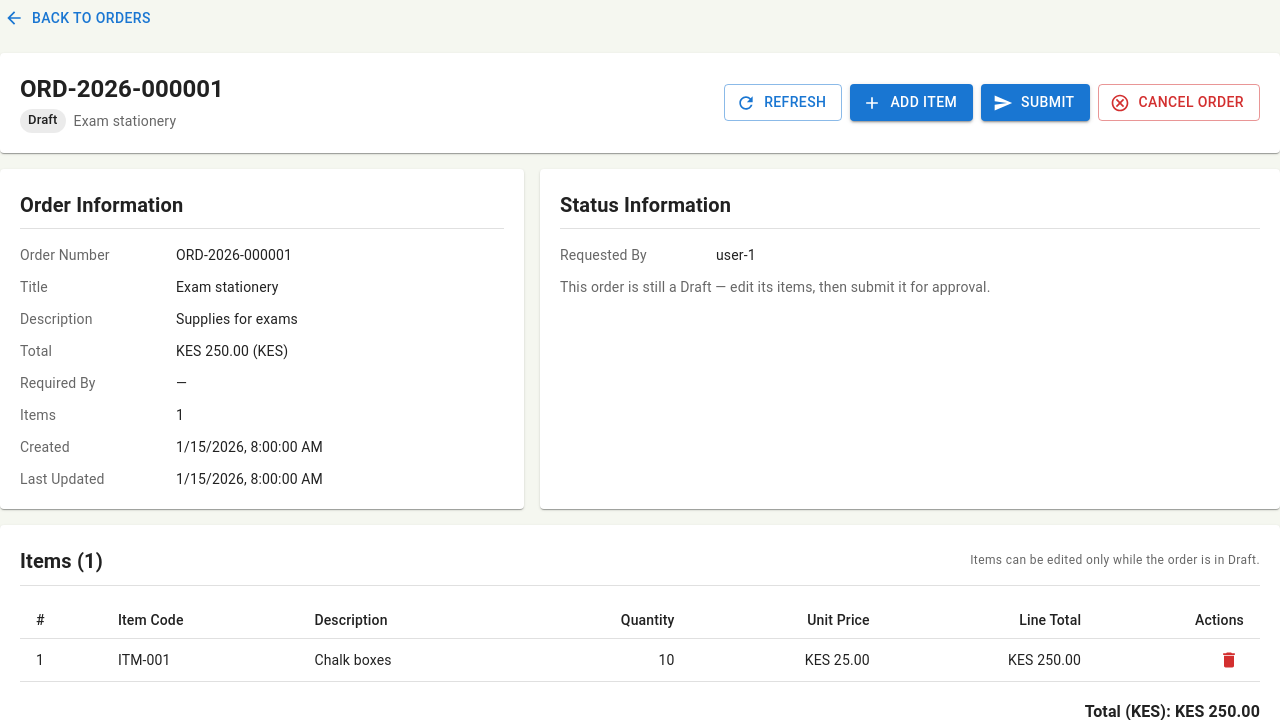
Test: OmsOrderDetail — workflow › shows a server authorization error when cancellation is no longer permitted
The width and height of the screenshot is (1280, 720).
Click the button "Cancel Order": (1179, 103) [1098,84,1260,121]
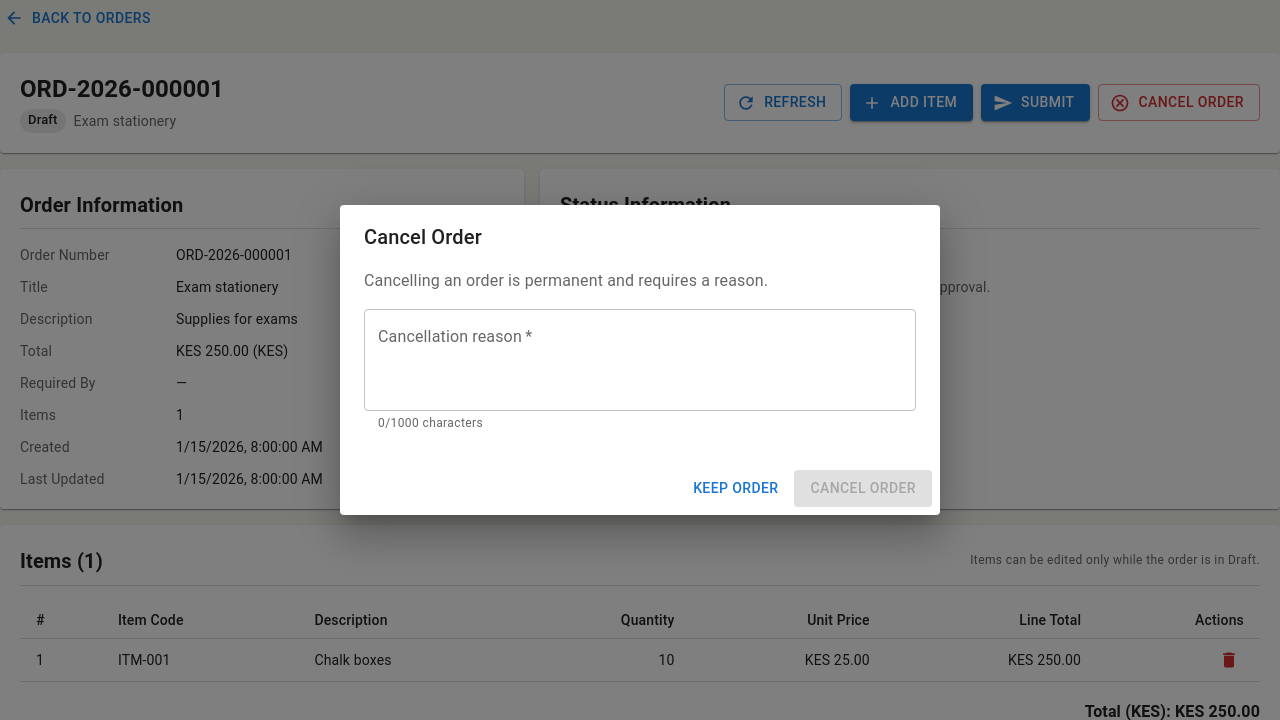
In the text box labelled "Cancellation reason *": (640, 360) [378,326,902,395], type "Trying again"
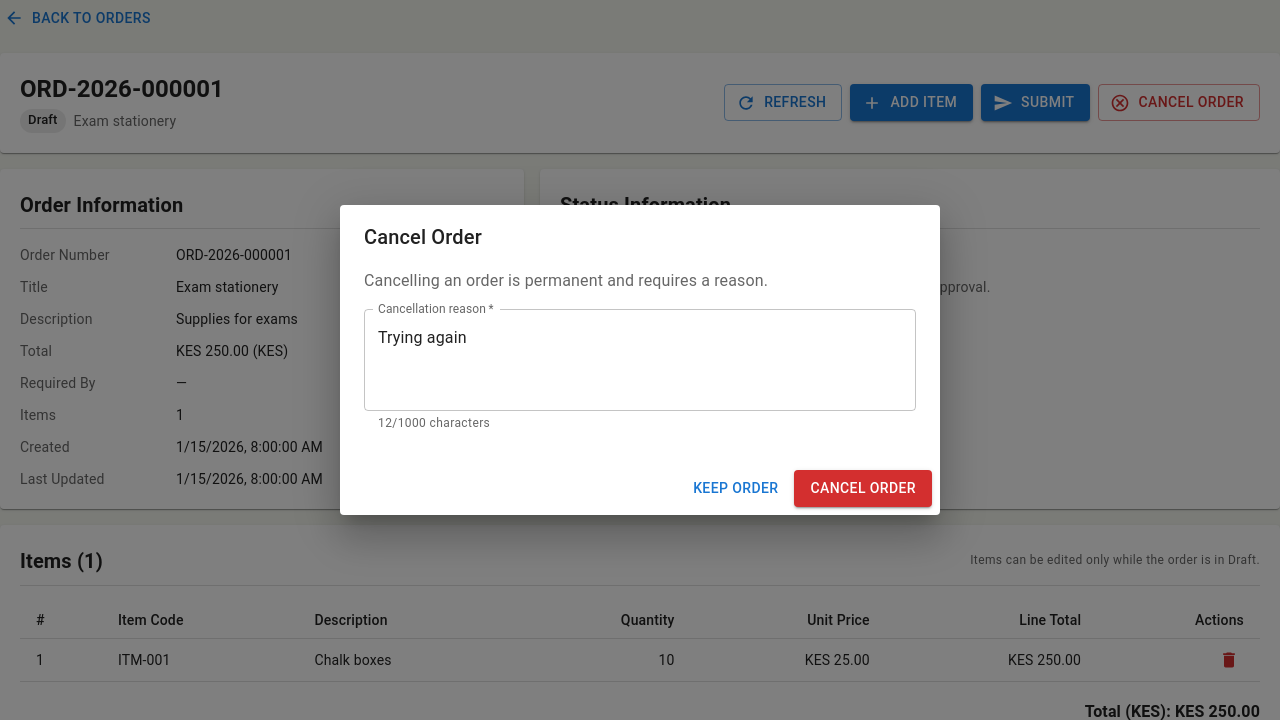
Click the button "Cancel Order": (863, 488) [794,470,932,507]
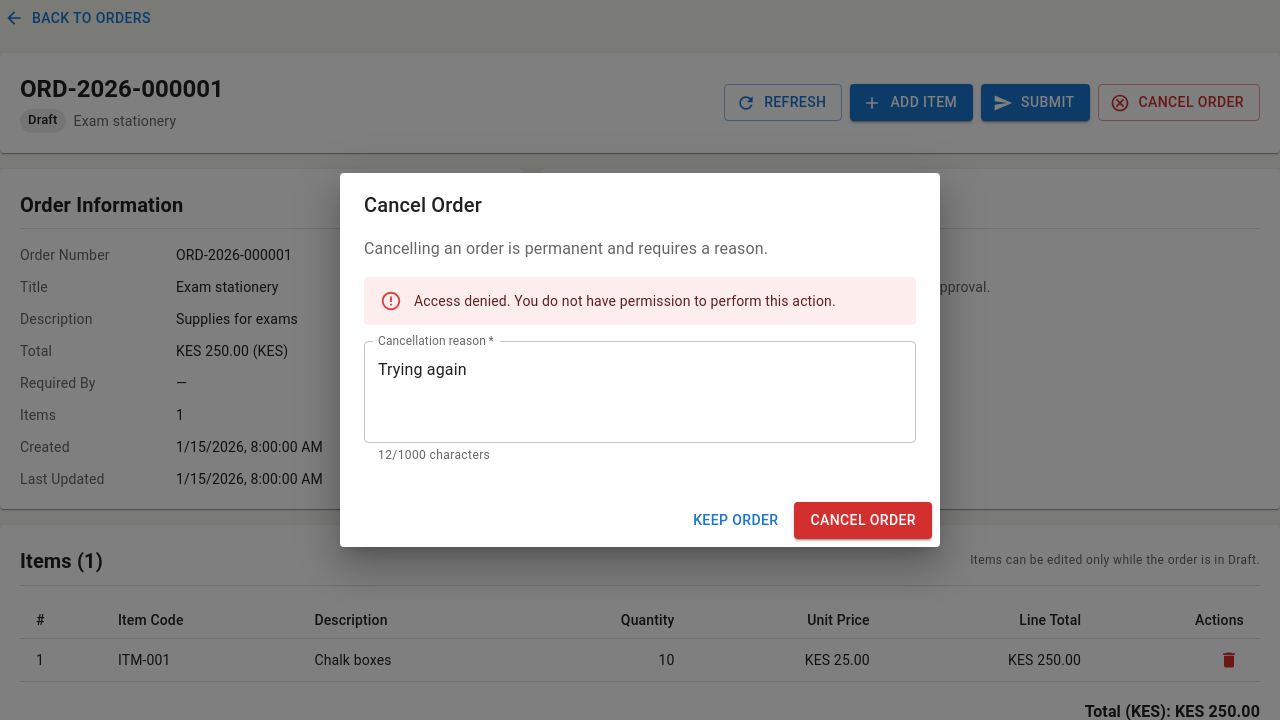
Expected: the text "do not have permission" is shown, [414,293,836,309]
